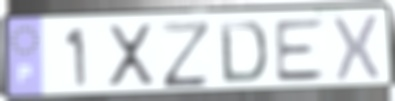1: (61, 25, 89, 91)
D: (217, 19, 270, 86)
E: (272, 17, 329, 85)
X: (331, 12, 382, 83), (105, 21, 158, 89)
Z: (159, 18, 214, 91)
